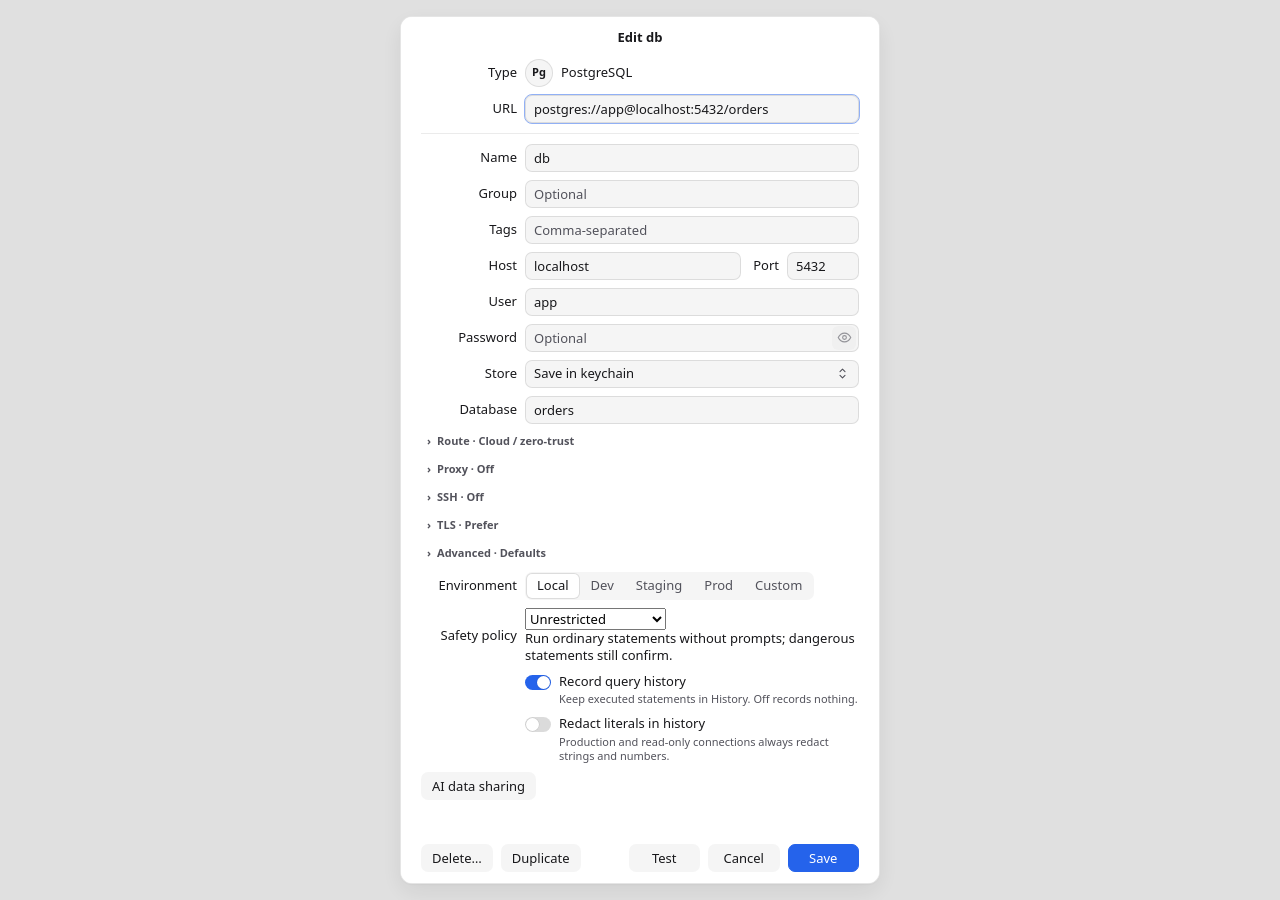
shows the certificate with its expiry warning and the latency
The image size is (1280, 900).
Click the button "Test".
click(664, 858)  # box [628,844,700,872]
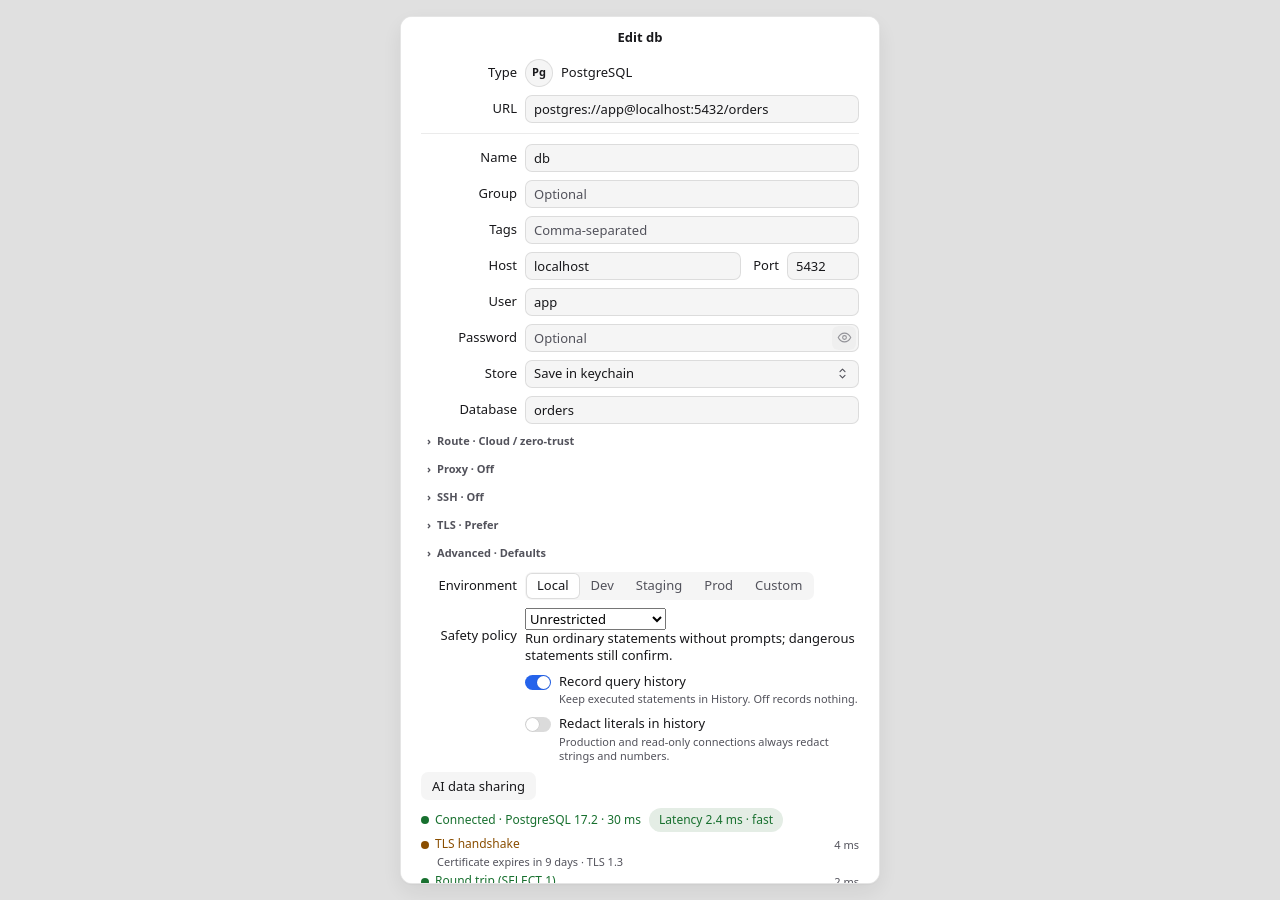
Expected: the text "Latency 2.4 ms · fast" is shown, [649,808,783,832]
Expected: the text "Round trip (SELECT 1)" is shown, [421,874,556,884]
